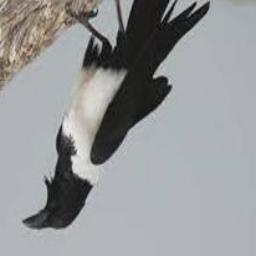Crow: (21, 0, 211, 231)
